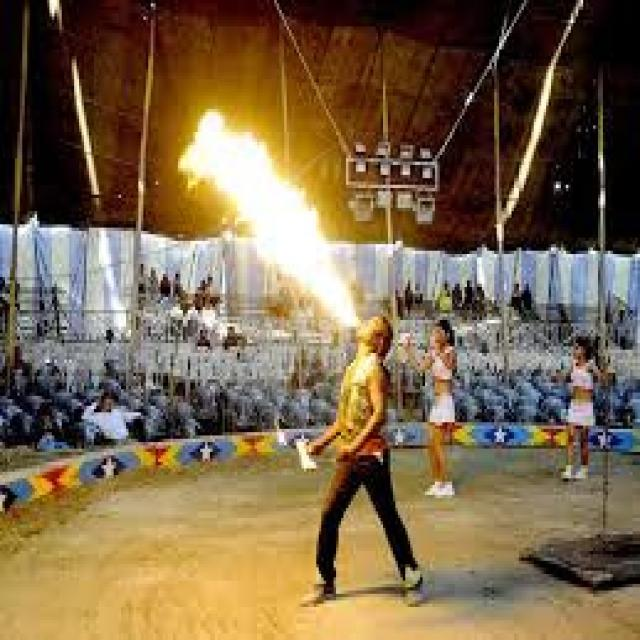fire: (177, 108, 362, 332)
